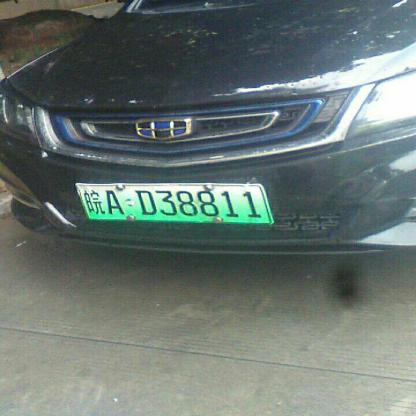lp: (76, 184, 272, 223)
